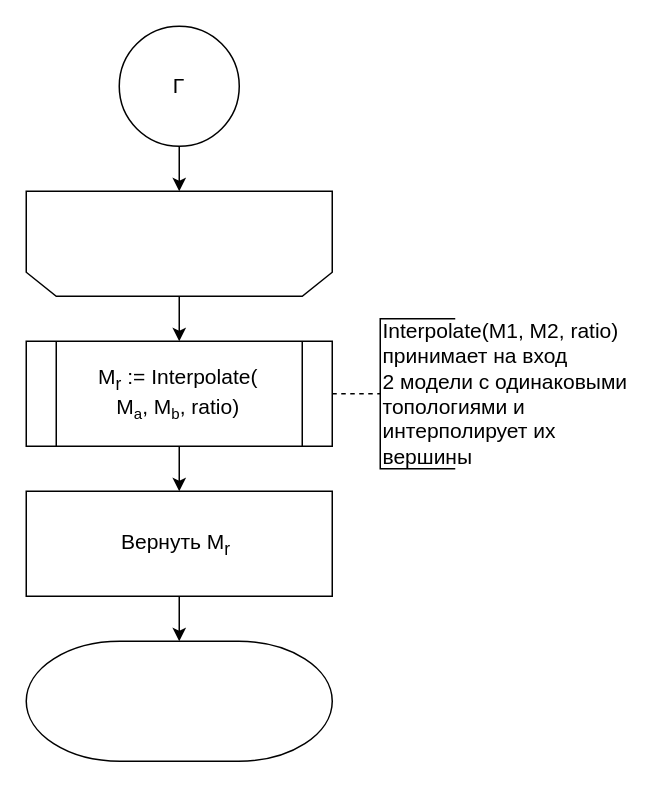
This 654x788 diagram has some shape labels left out. Here are the shapes that lost their labels. From the top down, the centre of each, then its label:
[178,243]: Конец цикла по вершинам M b
[178,700]: Конец
